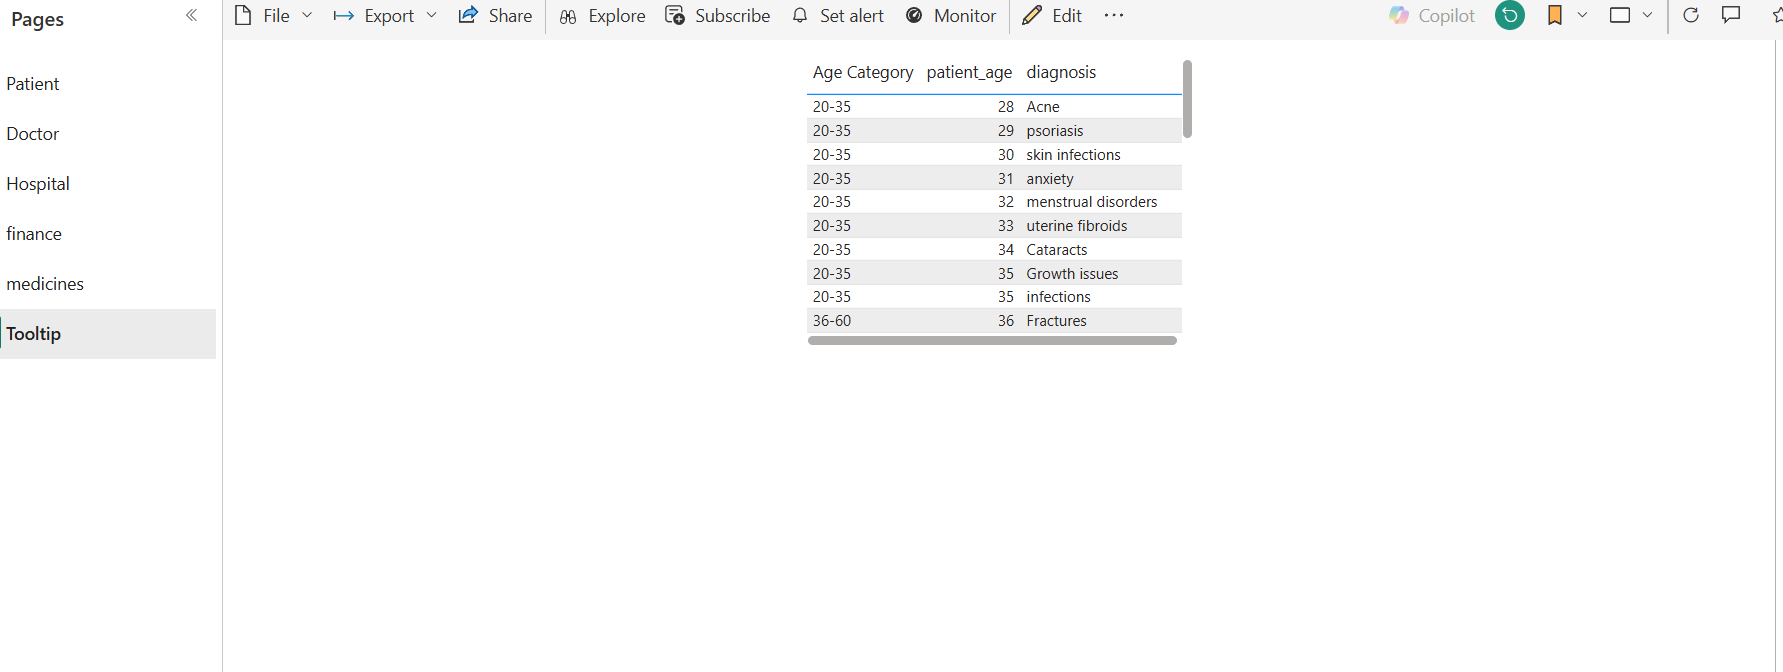

The page's visual inventory and layout, read from the dashboard file:
{"tool":"powerbi","page":{"name":"Tooltip","canvas":[320,240],"ordinal":5},"visuals":[{"type":"tableEx","fields":{"Values":["patient_detailss.Age Category","patient_detailss.patient_age","appointment.diagnosis"]},"box":[0,0,320,240],"z":0}]}

Visuals, with their boxes on the page's 320x240 design canvas (x1, y1, x2, y2). These are canvas units, not pixel positions in the 1783x672 screenshot, which may show the page scaled, cropped or inside an application window:
tableEx - patient_detailss.Age Category x patient_detailss.patient_age: x1=0, y1=0, x2=320, y2=240
